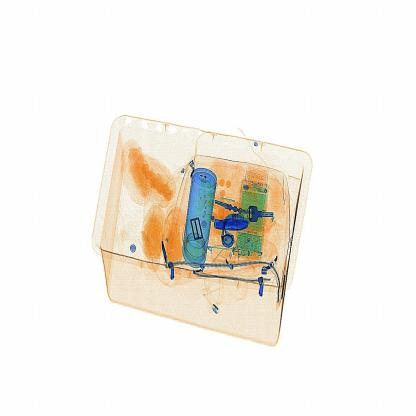knife: (209, 207, 254, 235)
